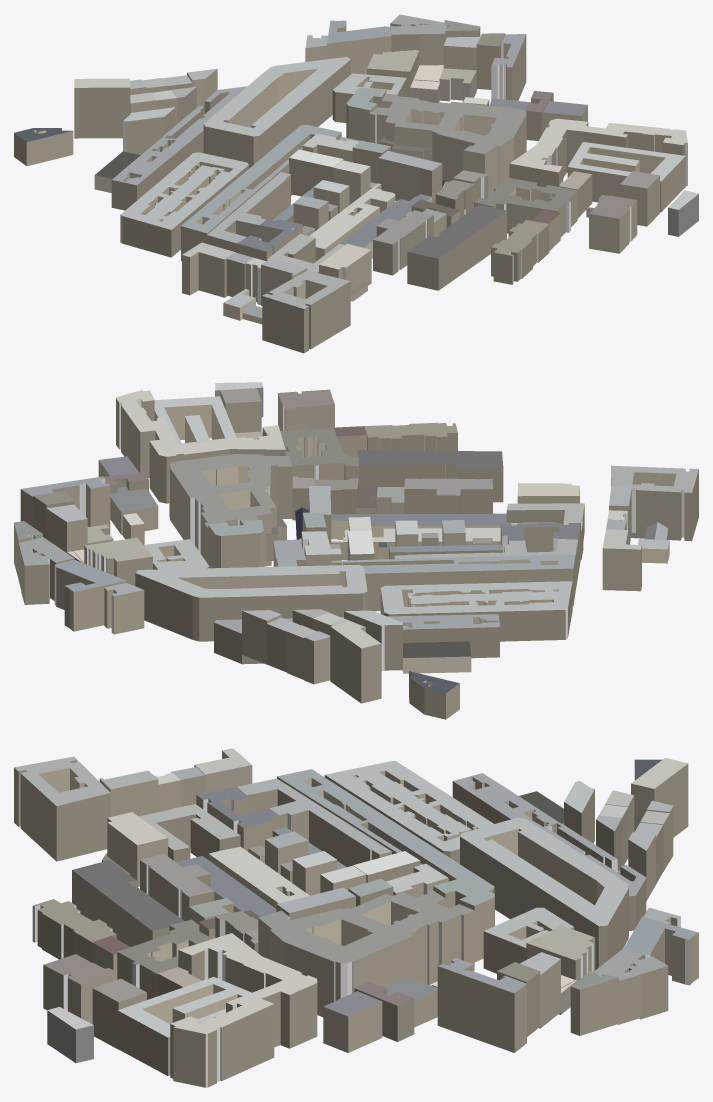
The picture shows the model from 3 angles, top to bottom: view 1: azimuth 30°, elevation 25°; view 2: azimuth 150°, elevation 25°; view 3: azimuth 270°, elevation 25°; orthographic projection. The views are drawn at different scales.
Parts seen in each view (by area): view 1: tuile; view 2: tuile; view 3: tuile.
Boxes of the visible parts, left/top/right/bottom form: tuile: left=14, top=14, right=698, bottom=353; tuile: left=14, top=382, right=698, bottom=719; tuile: left=14, top=748, right=698, bottom=1087.
Bounding box in the file's own units: 295 × 40.46 × 284.
